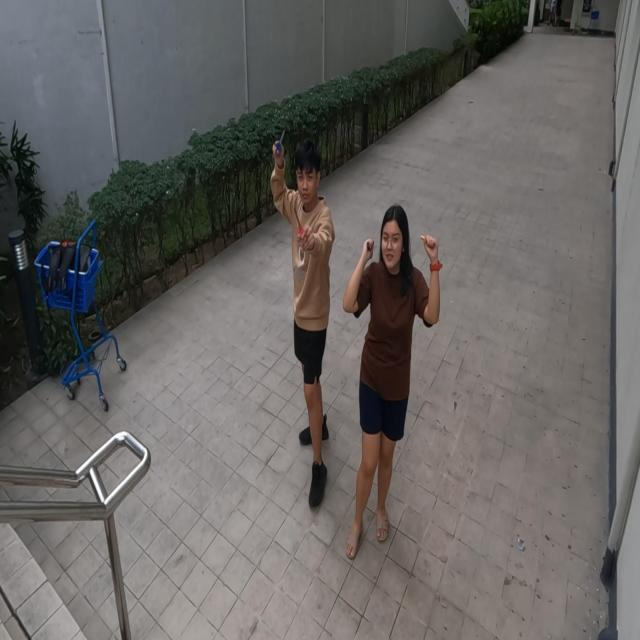scissor: (294, 207, 308, 246), (272, 128, 285, 159)
